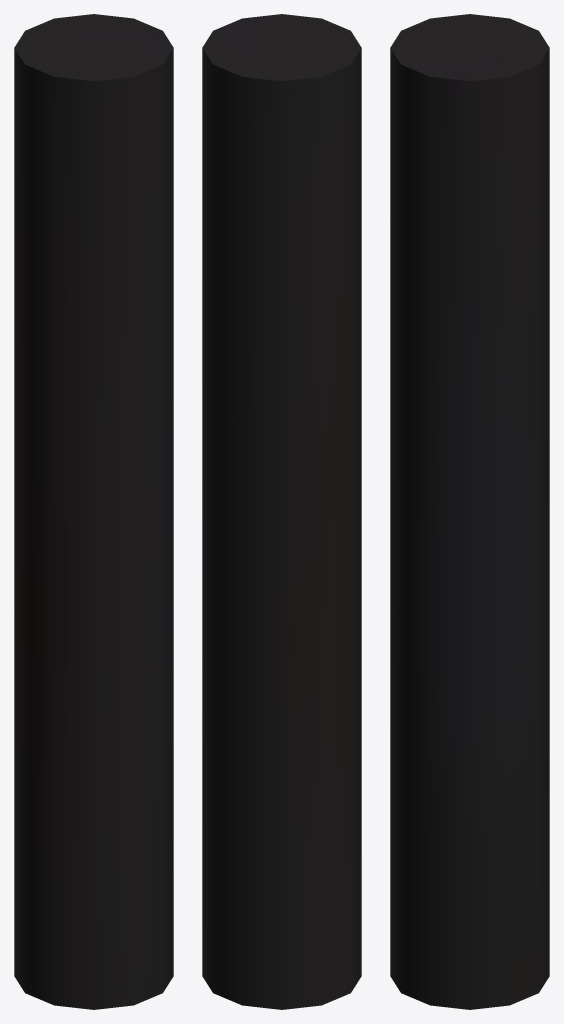
Rendered from CM_Count_Pillar_model.fbx.
3 views of the same model, side by side, from view 1: azimuth 30°, elevation 25°; view 2: azimuth 150°, elevation 25°; view 3: azimuth 270°, elevation 25° (orthographic).
Visible parts, largest first — view 1: CM_Count_Pillar_model; view 2: CM_Count_Pillar_model; view 3: CM_Count_Pillar_model.
Part boxes in pixels (<box>): CM_Count_Pillar_model: <box>14,14,173,1009</box>; CM_Count_Pillar_model: <box>202,14,361,1009</box>; CM_Count_Pillar_model: <box>390,14,549,1009</box>.
Bounding box in the file's own units: 1.54 × 9.9 × 1.54.
